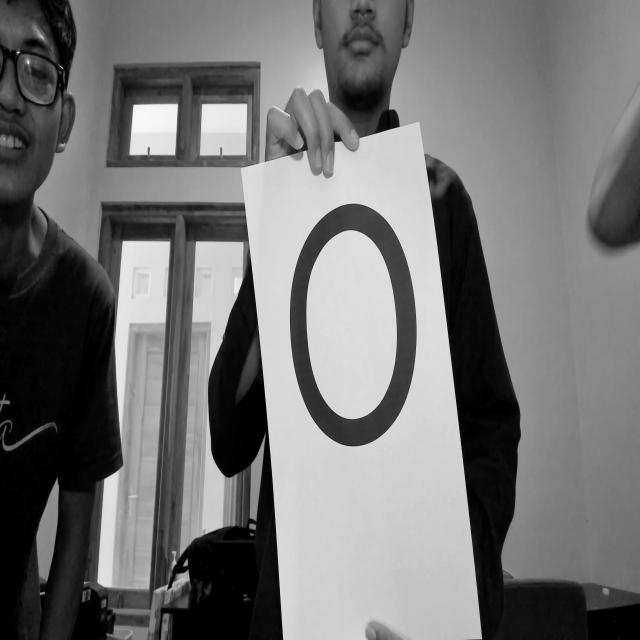o: (258, 160, 436, 495)
